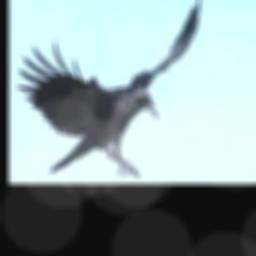Crow: (16, 0, 201, 179)
